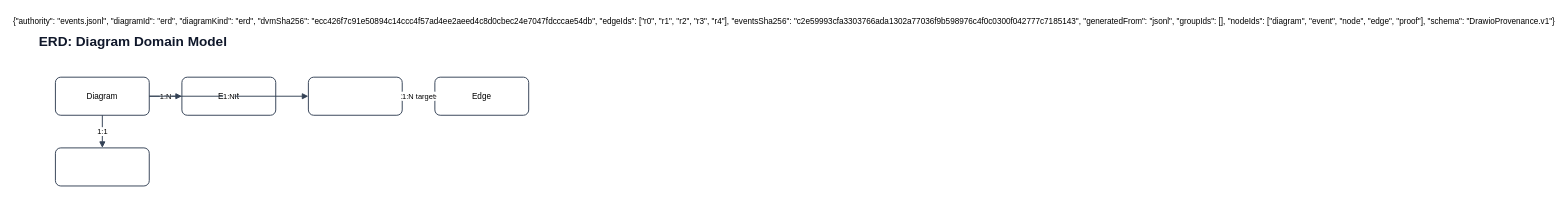
Some shapes in this 1566 by 198 pixel diagram are drawn without their labels. The centre of each missing label's shape, as x and y in pixels:
"Node" belongs at (355,95).
"Proof" belongs at (102,166).
